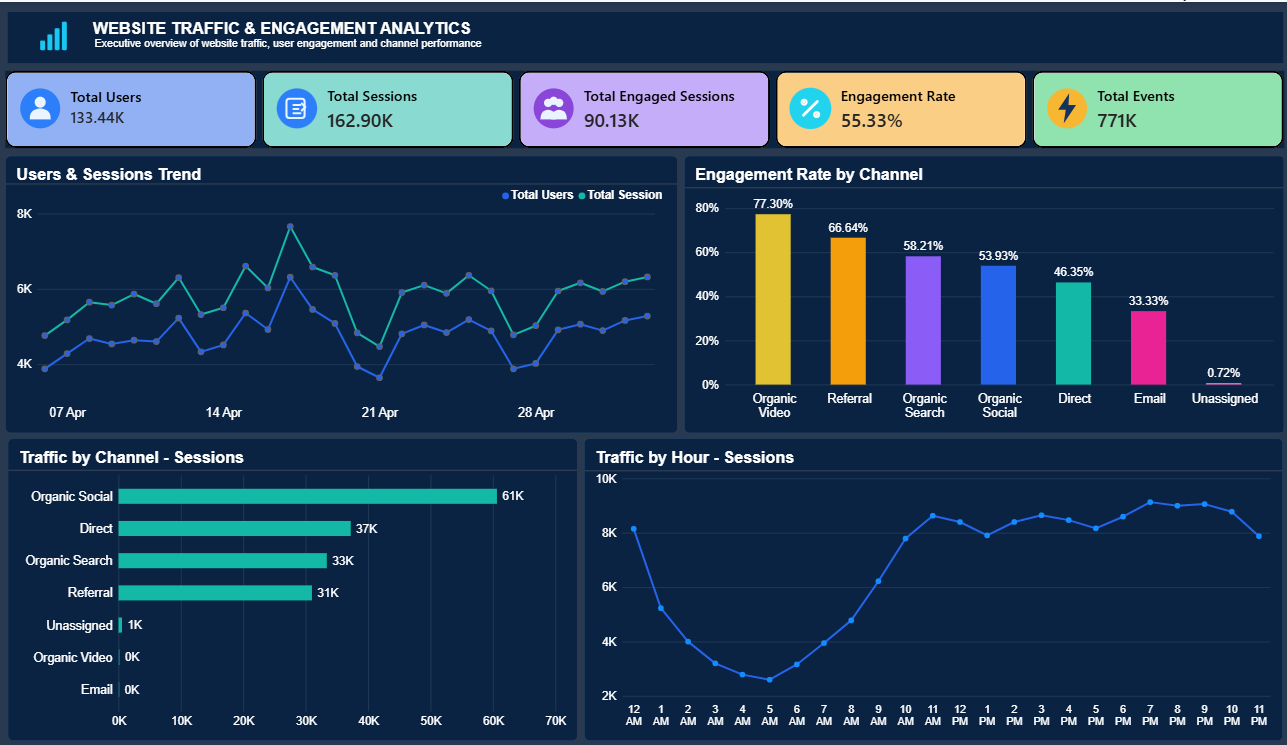

The dashboard page shown, as its layout file describes it:
{"tool":"powerbi","page":{"name":"Executive Overview","canvas":[1920,1110],"ordinal":0},"visuals":[{"type":"textbox","title":"WEBSITE TRAFFIC & ENGAGEMENT ANALYTICS","box":[13,14.9,1899,76.3],"z":0},{"type":"cardVisual","fields":{"Data":["Website-traffic-data-cleaned.Total Users","Website-traffic-data-cleaned.Total Session","Website-traffic-data-cleaned.Total Engaged Sessions","Website-traffic-data-cleaned.Overall Engagement Rate","Website-traffic-data-cleaned.Total Event"]},"box":[9.3,102,1904.6,115.3],"z":1000},{"type":"lineChart","title":"Users & Sessions Trend","fields":{"Category":["DateTable.Date.Variation.Date Hierarchy.Year","DateTable.Date.Variation.Date Hierarchy.Quarter","DateTable.Date.Variation.Date Hierarchy.Month","DateTable.Date.Variation.Date Hierarchy.Day"],"Y":["Website-traffic-data-cleaned.Total Users","Website-traffic-data-cleaned.Total Session"]},"box":[9.3,228.8,1000.6,412.9],"z":2000},{"type":"lineChart","title":"Traffic by Hour - Sessions","fields":{"Y":["Website-traffic-data-cleaned.Total Session"],"Category":["Website-traffic-data-cleaned.Hour Label"]},"box":[870.4,649.1,1039.7,450.1],"z":3000},{"type":"image","box":[37.2,22.3,91,55],"z":4000},{"type":"clusteredBarChart","title":"Traffic by Channel - Sessions","fields":{"Category":["Website-traffic-data-cleaned.Channel Group"],"Y":["Website-traffic-data-cleaned.Total Session"]},"box":[13,649.1,848.1,450.1],"z":5000},{"type":"clusteredColumnChart","title":"Engagement Rate by Channel","fields":{"Category":["Website-traffic-data-cleaned.Channel Group"],"Y":["Website-traffic-data-cleaned.Overall Engagement Rate"]},"box":[1019.2,228.8,894.6,412.9],"z":6000}]}

Visuals, with their boxes in screenshot pixels (x1, y1, x2, y2), scaled from the page's 1920x1110 canvas onto the 1287x745 screenshot:
"WEBSITE TRAFFIC & ENGAGEMENT ANALYTICS" textbox: Rect(9, 10, 1282, 61)
cardVisual - Website-traffic-data-cleaned.Total Users x Website-traffic-data-cleaned.Total Session: Rect(6, 68, 1283, 146)
"Users & Sessions Trend" lineChart: Rect(6, 154, 677, 431)
"Traffic by Hour - Sessions" lineChart: Rect(583, 436, 1280, 738)
image: Rect(25, 15, 86, 52)
"Traffic by Channel - Sessions" clusteredBarChart: Rect(9, 436, 577, 738)
"Engagement Rate by Channel" clusteredColumnChart: Rect(683, 154, 1283, 431)
